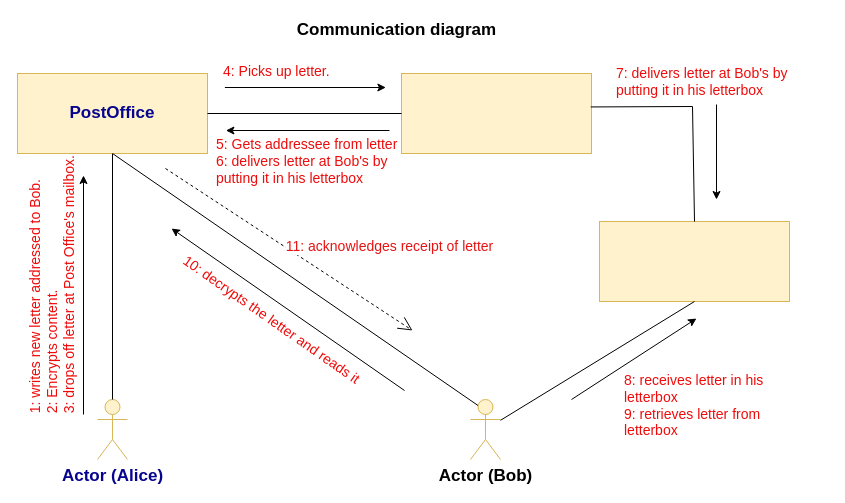
Image size: 845x503. Some labels were removed from this diagram. The shapes that lost their labels are listed below. From the top down, each one's centre as x and y in pixels, then its label:
the point at 496,113: Postie (Charli)
the point at 694,261: Letterbox
